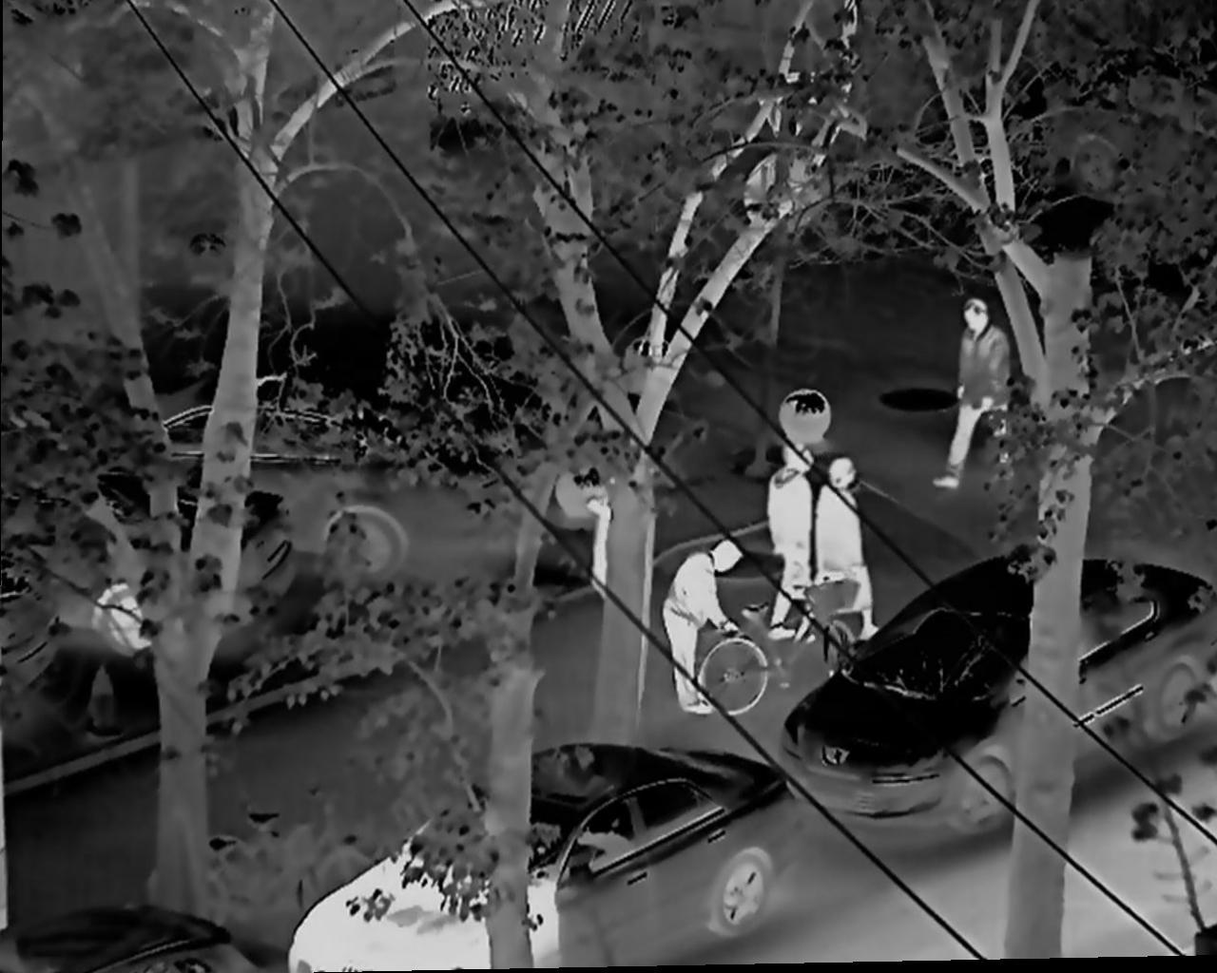person: (930, 297, 1013, 488), (664, 539, 745, 715), (816, 458, 880, 640), (764, 442, 810, 639)
